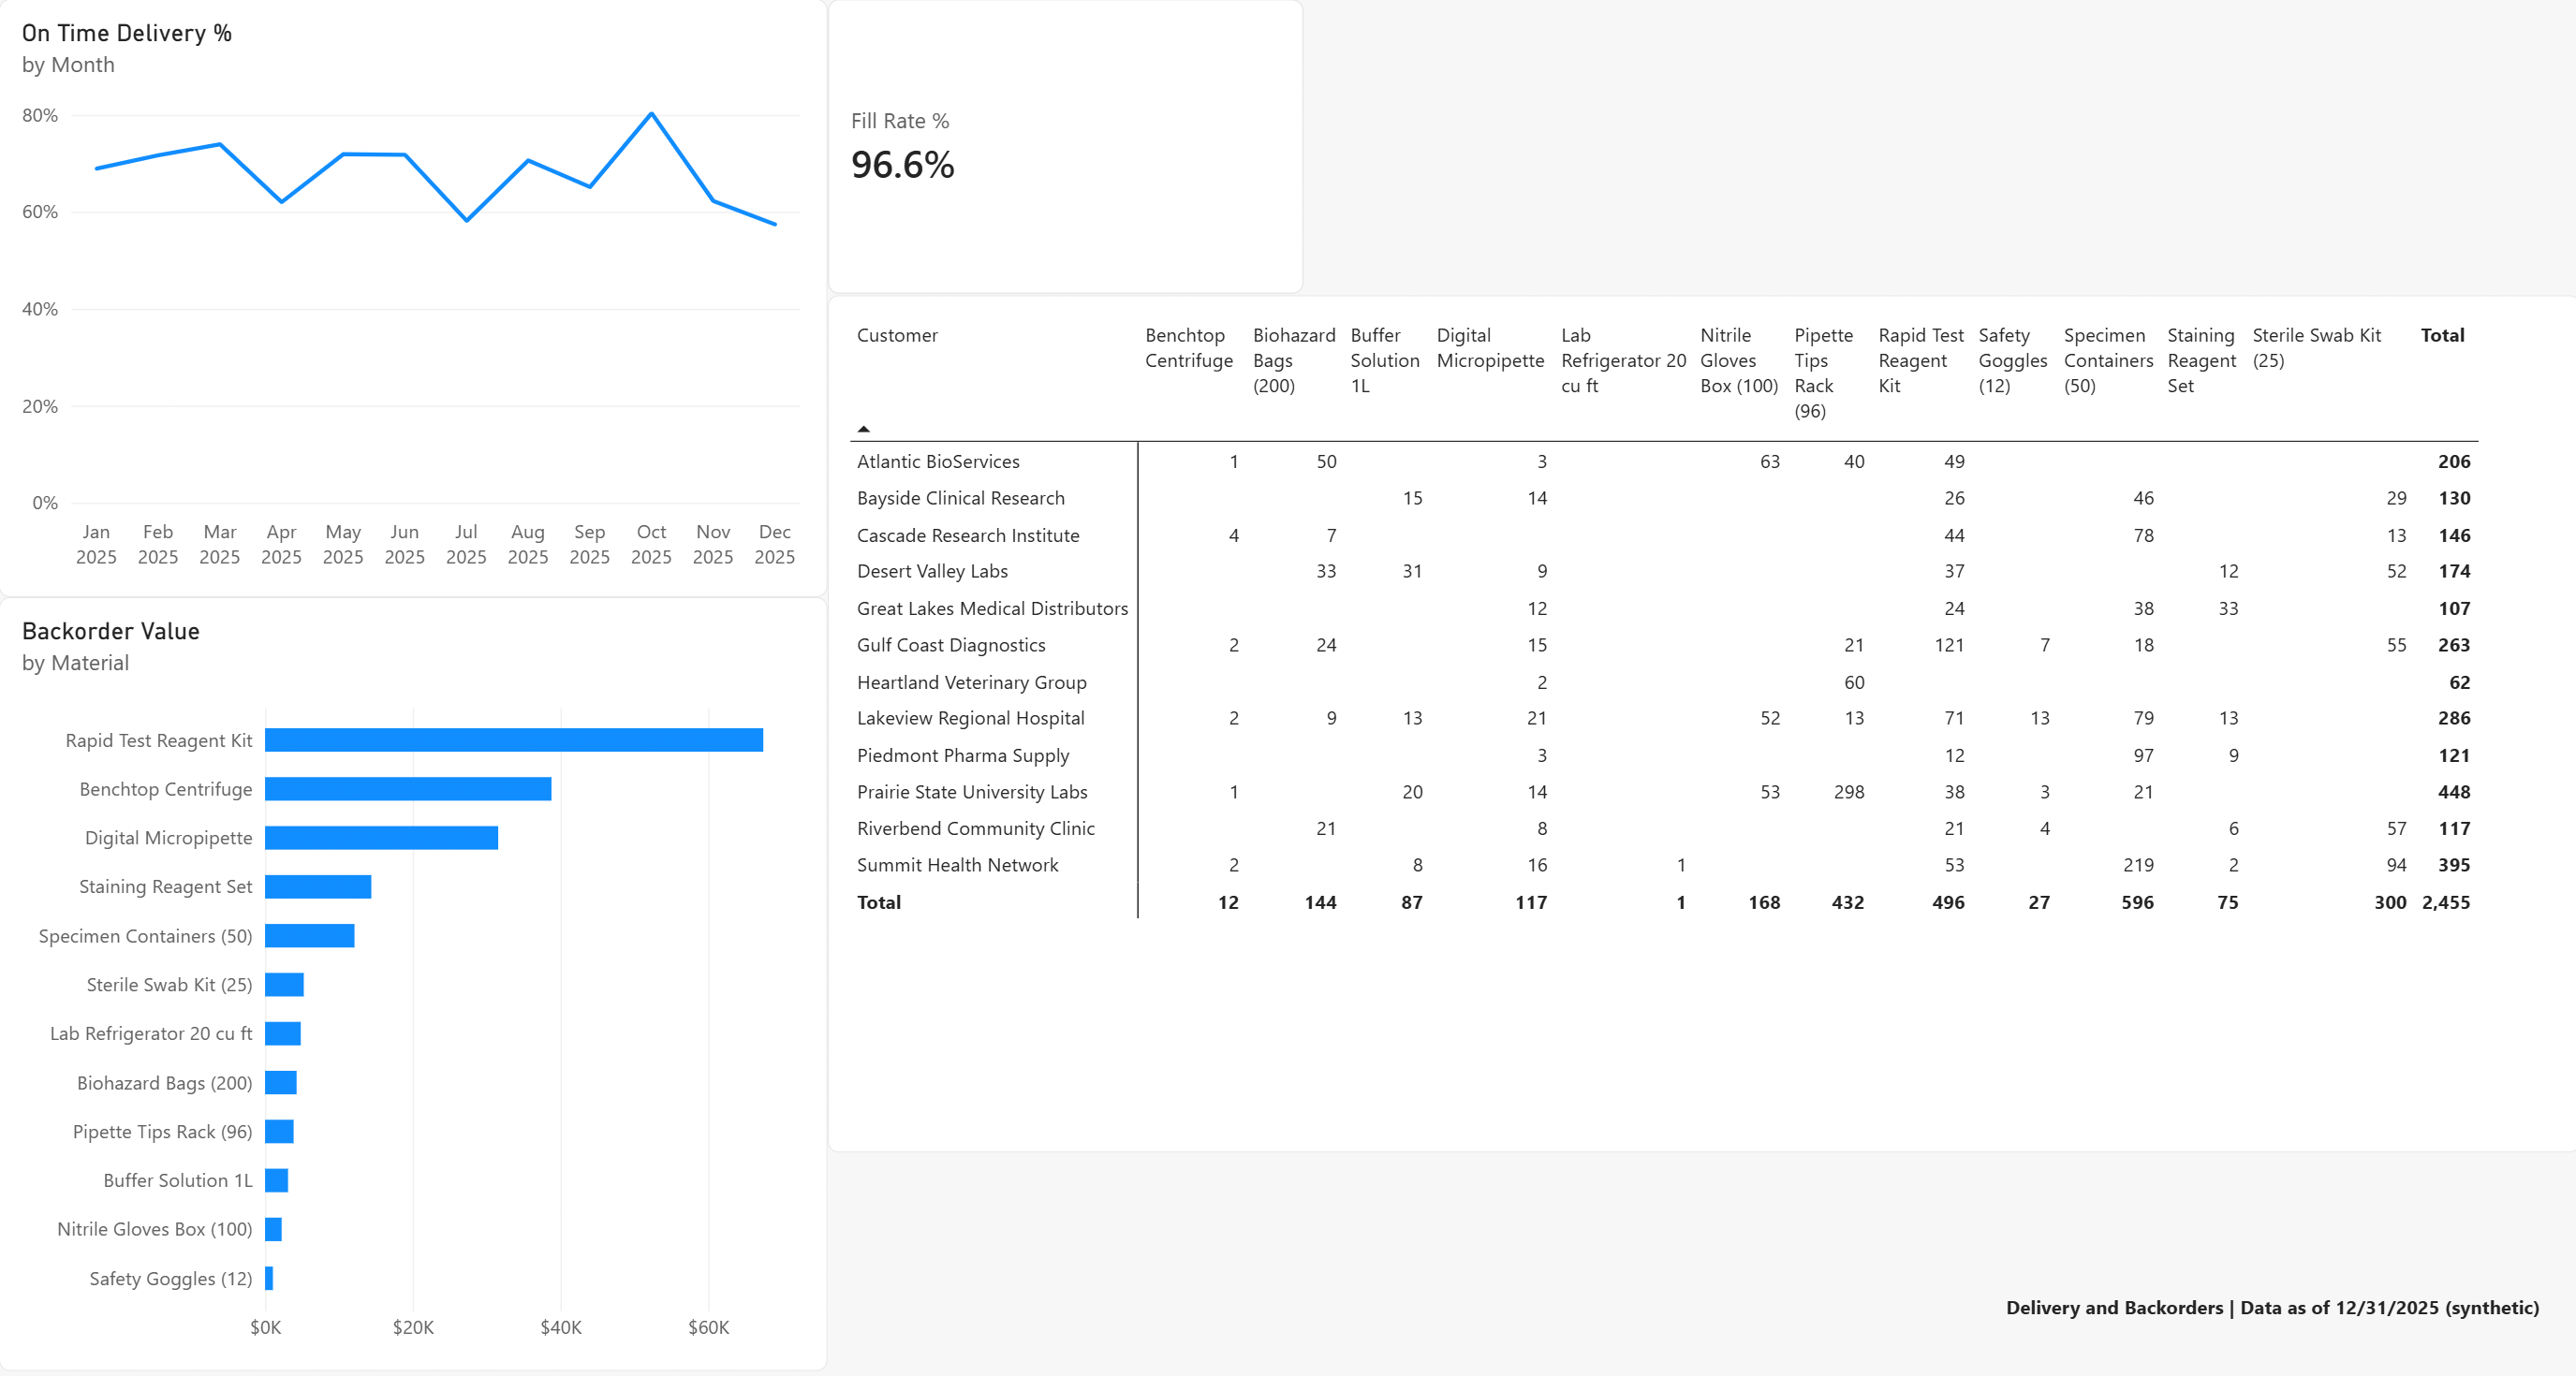

The page's visual inventory and layout, read from the dashboard file:
{"tool":"powerbi","page":{"name":"Delivery and Backorders","canvas":[1920,1080],"ordinal":2},"visuals":[{"type":"lineChart","fields":{"Category":["DimDate.Month"],"Y":["_Measures.On Time Delivery %"]},"box":[0,0,609.3,439.9],"z":0},{"type":"cardVisual","fields":{"Data":["_Measures.Fill Rate %"]},"box":[609.3,0,350.5,217.6],"z":1000},{"type":"clusteredBarChart","fields":{"Category":["DimMaterial.MATERIAL_DESC"],"Y":["_Measures.Backorder Value"]},"box":[0,439.9,609.3,569.3],"z":2000},{"type":"pivotTable","fields":{"Columns":["DimMaterial.MATERIAL_DESC"],"Rows":["DimCustomer.CUSTOMER_NAME"],"Values":["_Measures.Backorder Qty"]},"box":[609.3,217.6,1289.2,630.5],"z":3000},{"type":"textbox","box":[1476.2,952.7,422.3,127],"z":3001}]}

Visuals, with their boxes on the page's 1920x1080 design canvas (x1, y1, x2, y2). These are canvas units, not pixel positions in the 2576x1376 screenshot, which may show the page scaled, cropped or inside an application window:
lineChart - DimDate.Month x _Measures.On Time Delivery %: 0 0 609 440
cardVisual - _Measures.Fill Rate %: 609 0 960 218
clusteredBarChart - DimMaterial.MATERIAL_DESC x _Measures.Backorder Value: 0 440 609 1009
pivotTable - DimMaterial.MATERIAL_DESC x DimCustomer.CUSTOMER_NAME: 609 218 1898 848
textbox: 1476 953 1898 1080
